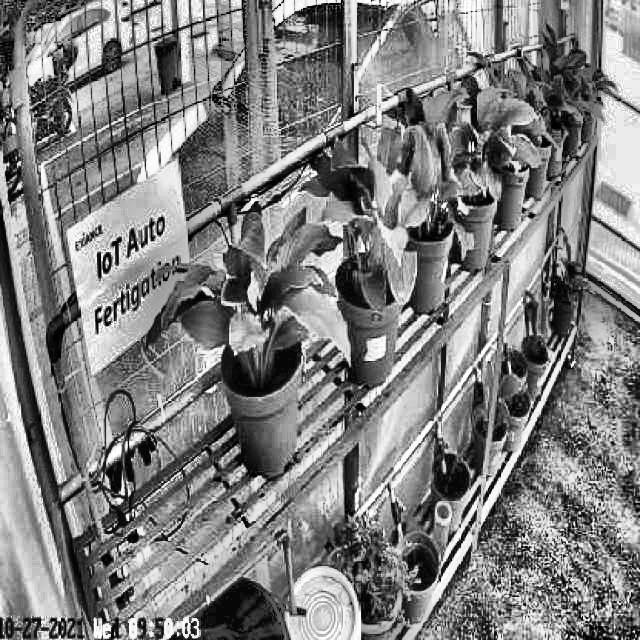plants: (143, 200, 349, 385), (304, 140, 418, 320), (422, 74, 540, 210), (376, 106, 473, 268)
